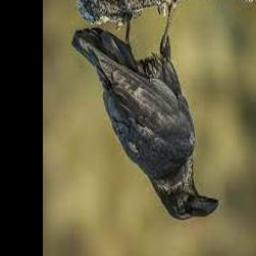Crow: (72, 0, 219, 220)
